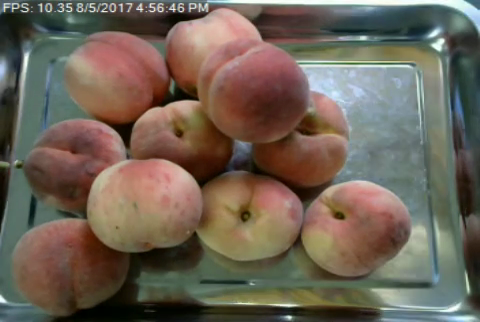Peach: (11, 215, 127, 315), (164, 8, 276, 109), (197, 38, 309, 139), (300, 180, 412, 276), (89, 156, 198, 252), (63, 29, 169, 125), (195, 171, 304, 259), (250, 89, 349, 184), (25, 119, 124, 212), (129, 99, 234, 176)
